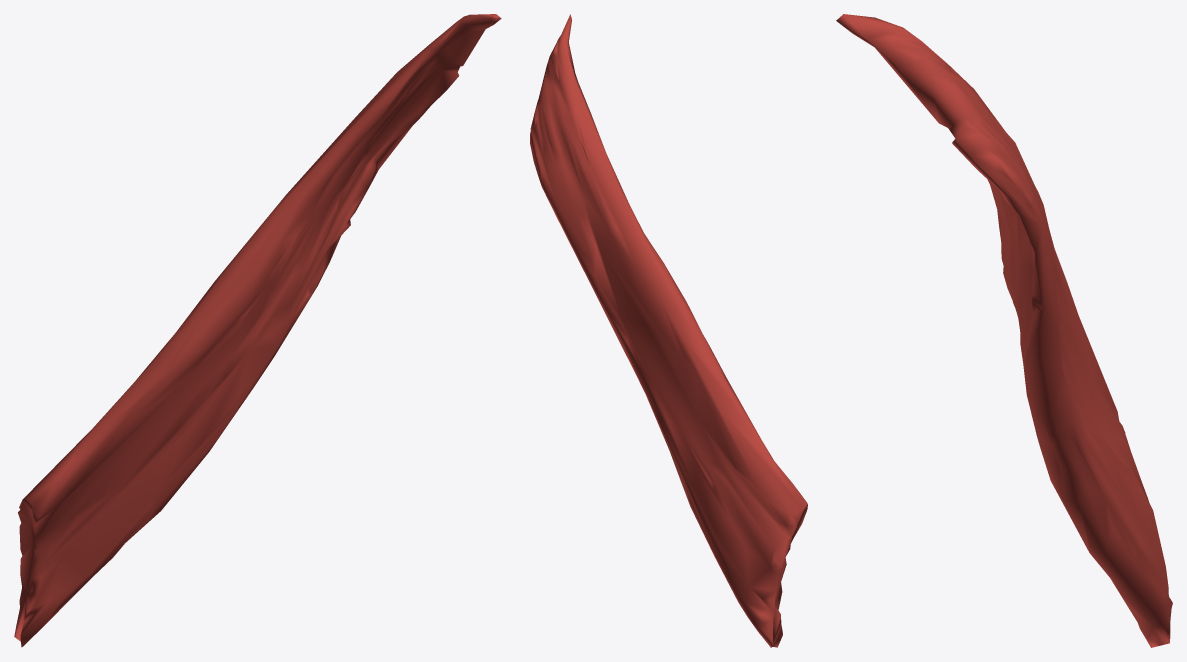
The model's file is musculos-rhomboid-minor-muscle-r.glb.
3 renders of one model, left to right at view 1: azimuth 30°, elevation 25°; view 2: azimuth 150°, elevation 25°; view 3: azimuth 270°, elevation 25°, orthographic. The views are drawn at different scales.
Parts seen in each view (by area): view 1: Rhomboid minor muscle.r; view 2: Rhomboid minor muscle.r; view 3: Rhomboid minor muscle.r.
Part boxes in pixels (x1,y1,x2,y2): Rhomboid minor muscle.r: [14, 14, 501, 647]; Rhomboid minor muscle.r: [530, 14, 807, 647]; Rhomboid minor muscle.r: [836, 14, 1172, 647].
Bounding box in the file's own units: 0.0654 × 0.1009 × 0.0347.
